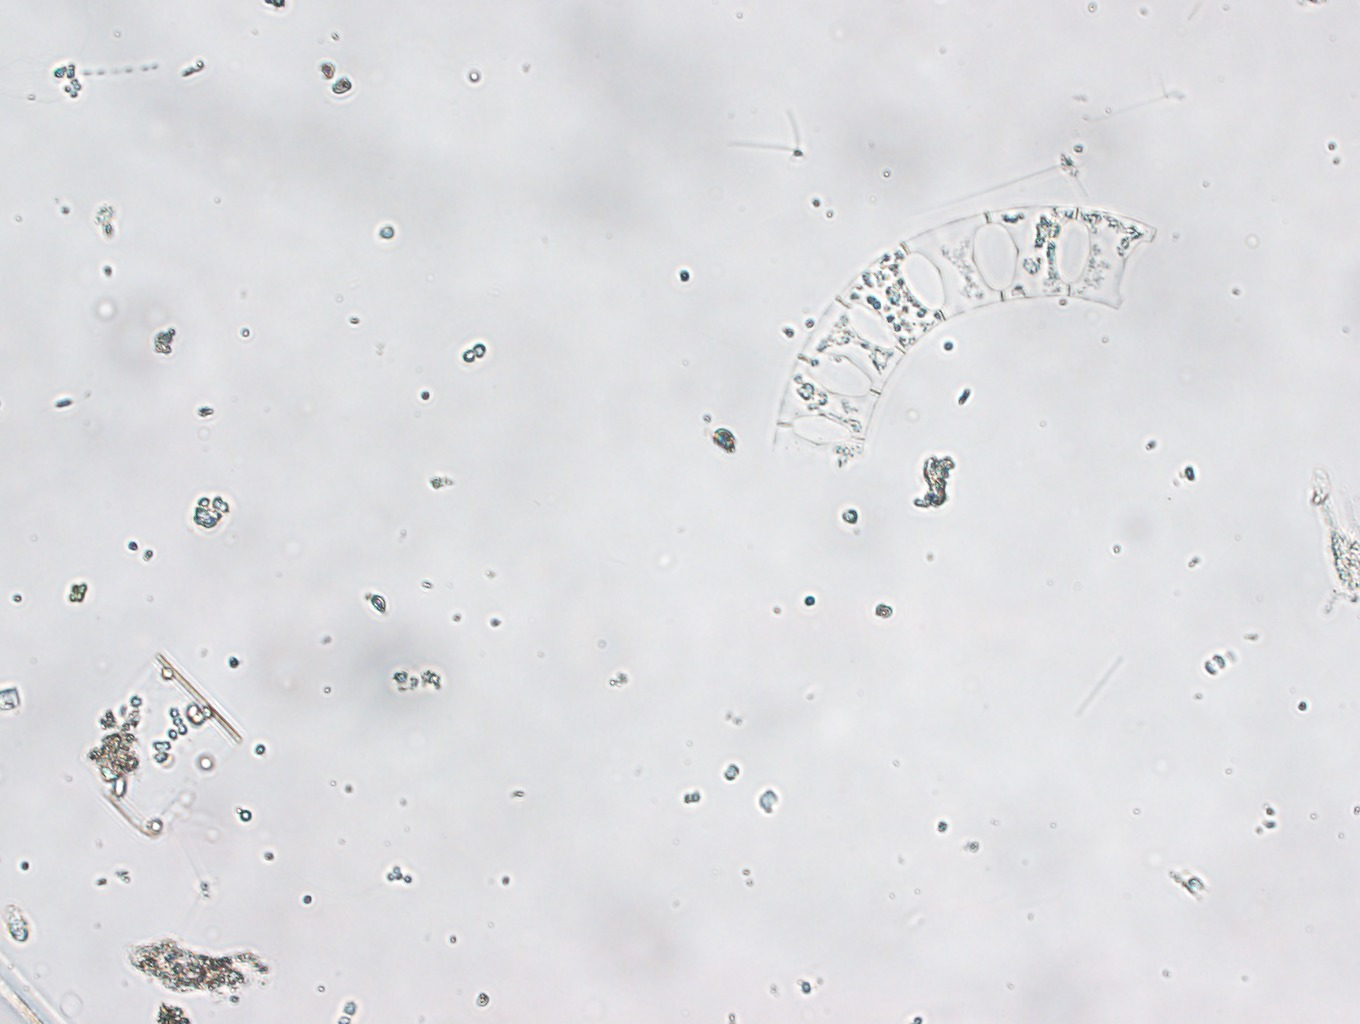eucampia: (770, 198, 1160, 482)
